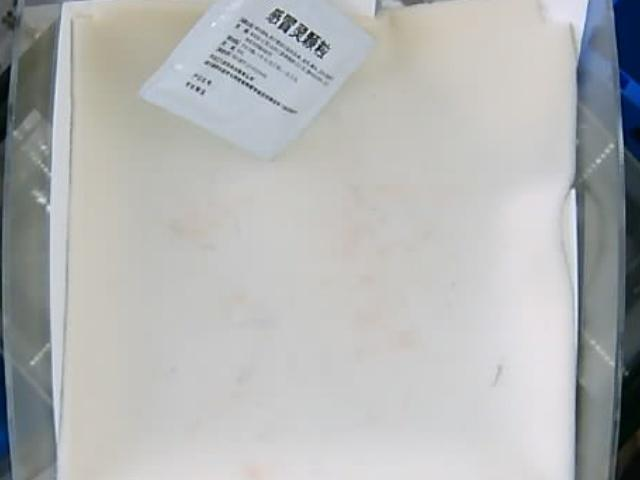Medicine: (139, 1, 377, 163)
